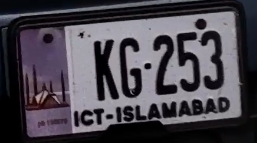KG253: (3, 2, 253, 139)
